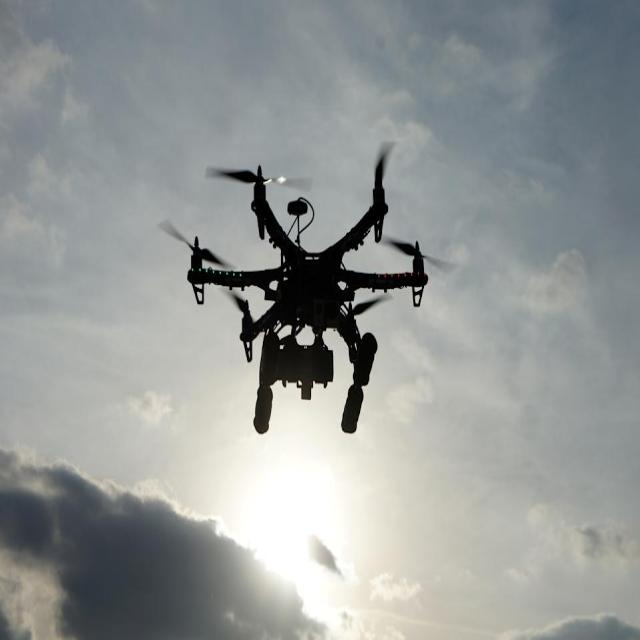drone: (156, 134, 459, 438)
